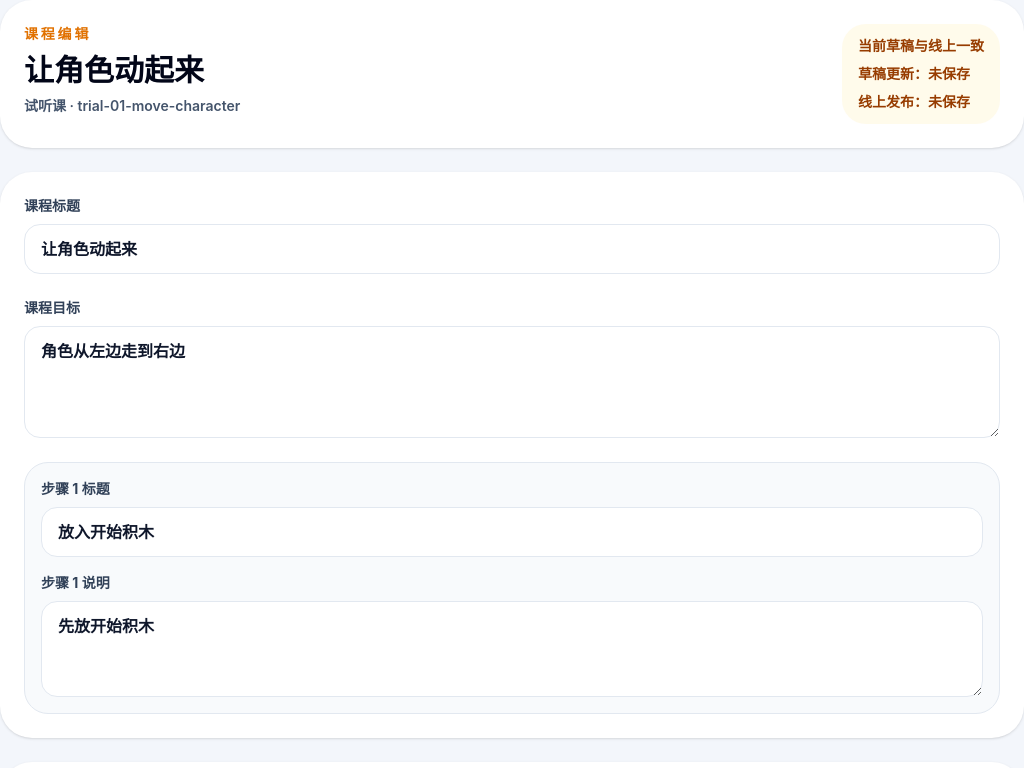
Scenario: LessonEditor › saves the whole lesson draft and shows the returned status
The width and height of the screenshot is (1024, 768).
Replace the text in the field labelled "课程标题" with "新的课程标题": (512, 249) [24,224,1000,274]
(page scrolled)
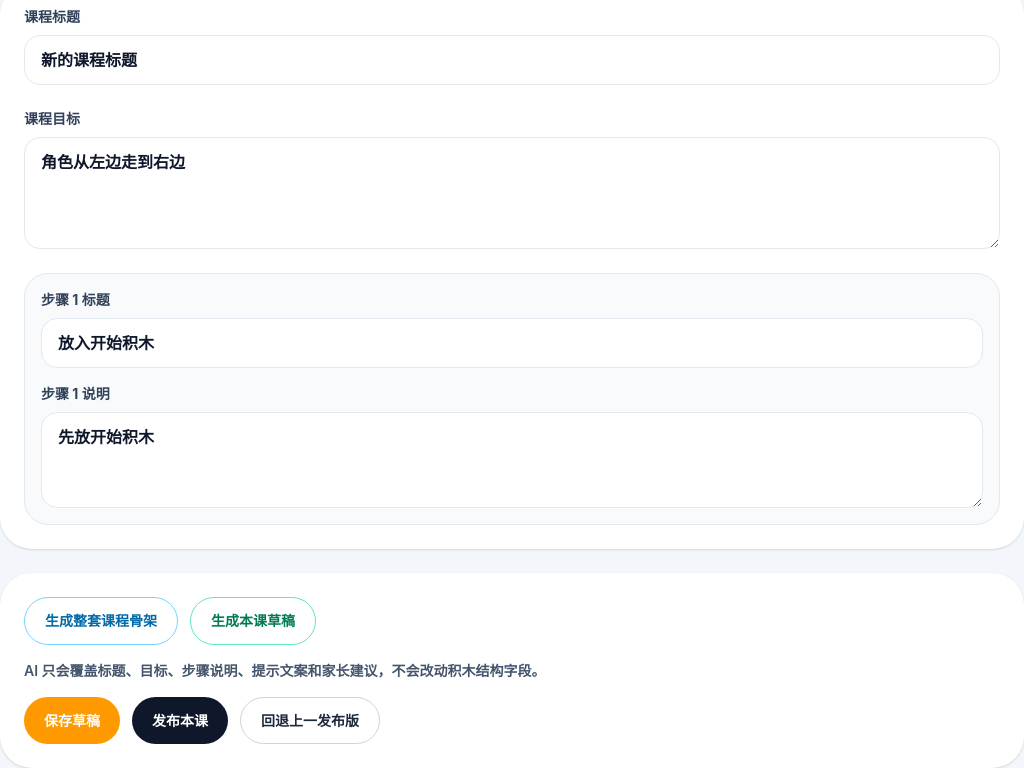
Click the button "保存草稿": (72, 721) [24,697,120,744]
(page scrolled)
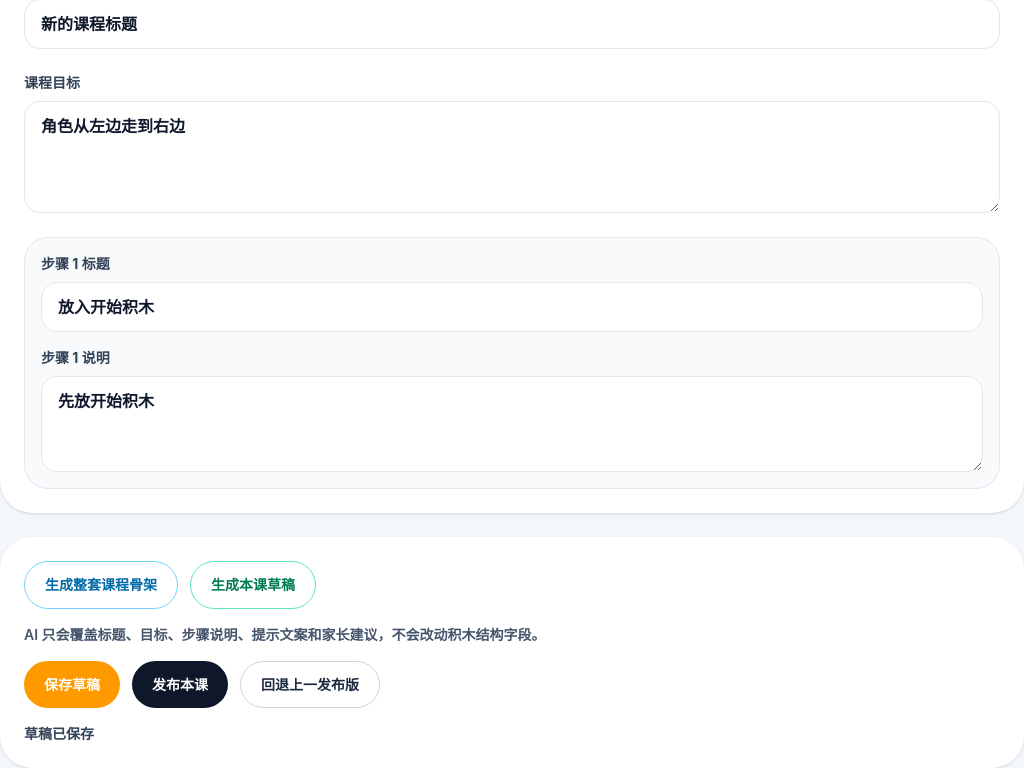
Check: the text "草稿已保存" is shown, box [24,725,94,742]
